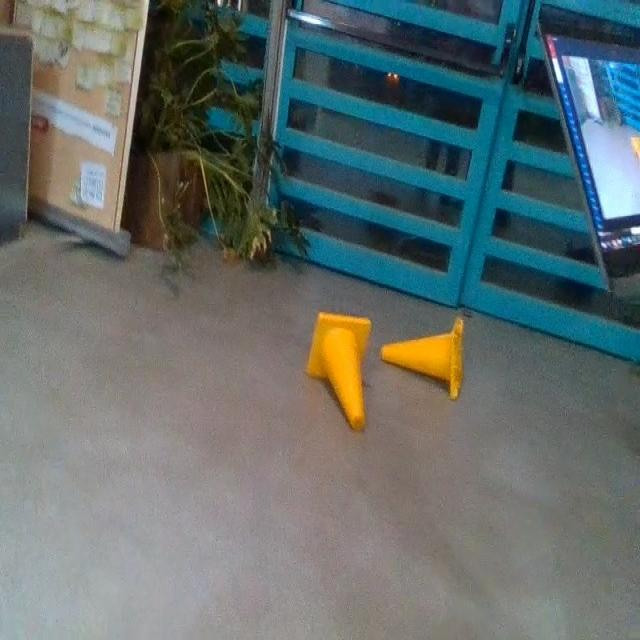cone: (308, 310, 370, 428), (382, 318, 464, 396)
